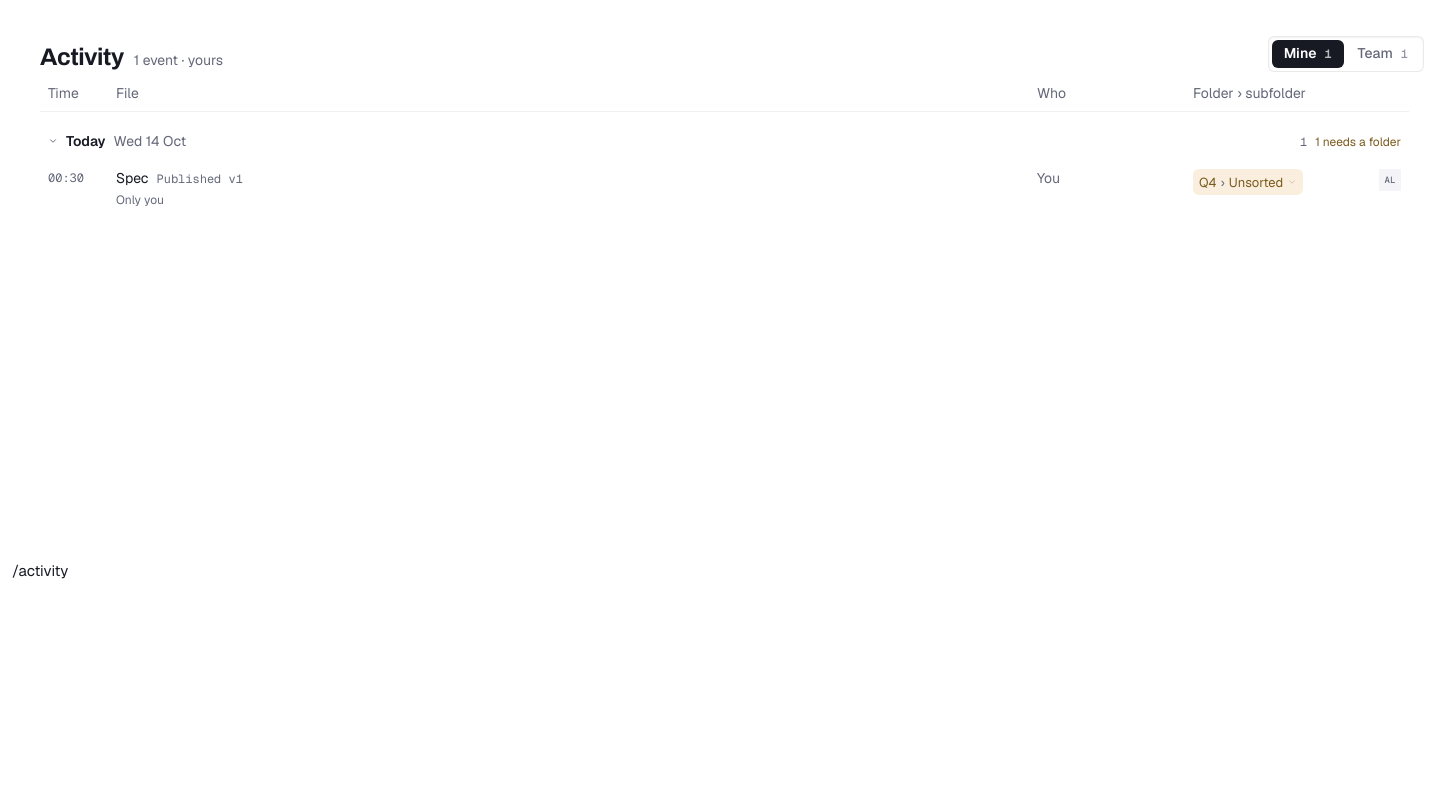
Test: ActivityScreen › groups events by day, and folds a day away
Click the button "Today Wed 14 Oct 1 1 needs a folder" at (86, 141), box [40,112,1409,157]
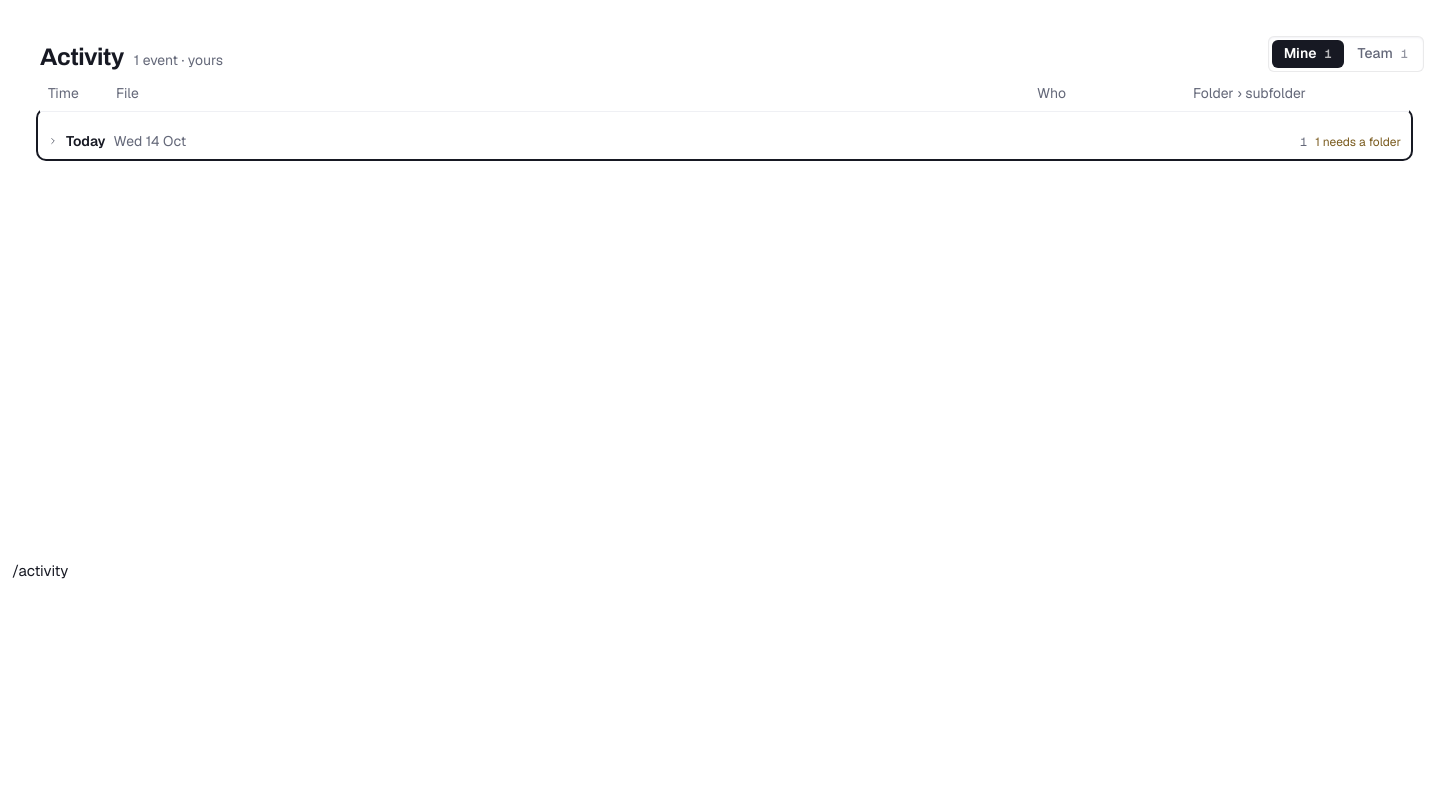
Check: the link "Spec" is gone
